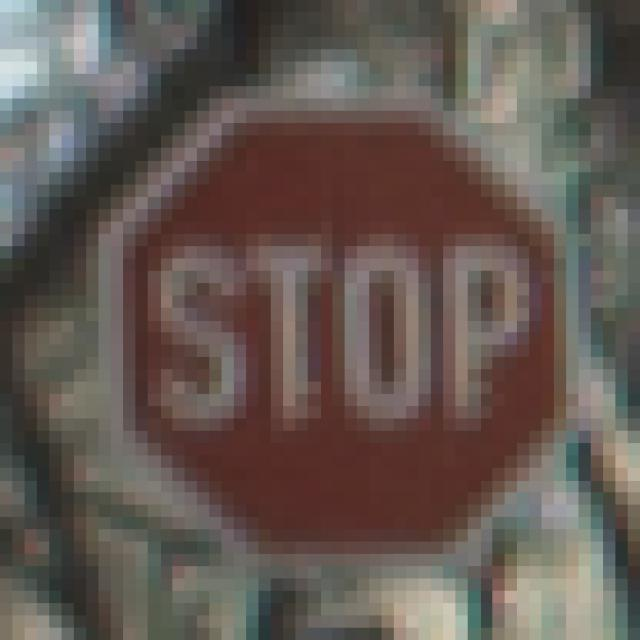STOP: (75, 75, 579, 579)
